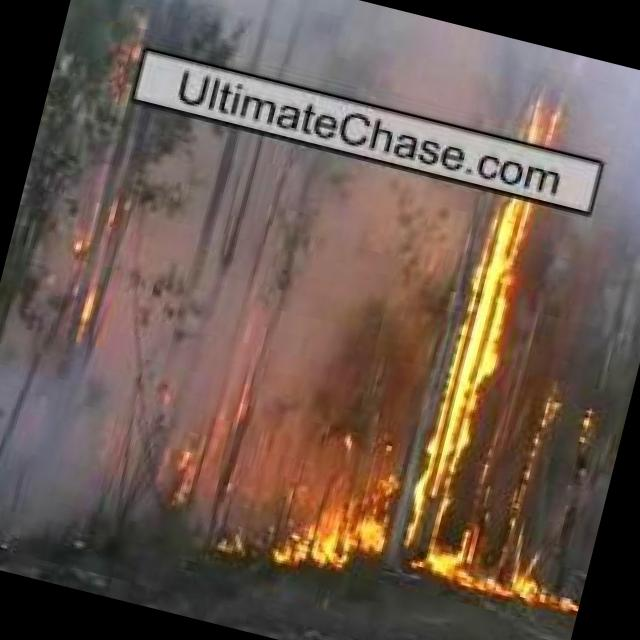Fire: (398, 194, 536, 580), (287, 500, 378, 581), (500, 550, 579, 614)
Smoke: (8, 89, 470, 352), (0, 257, 288, 623), (154, 0, 640, 176)
